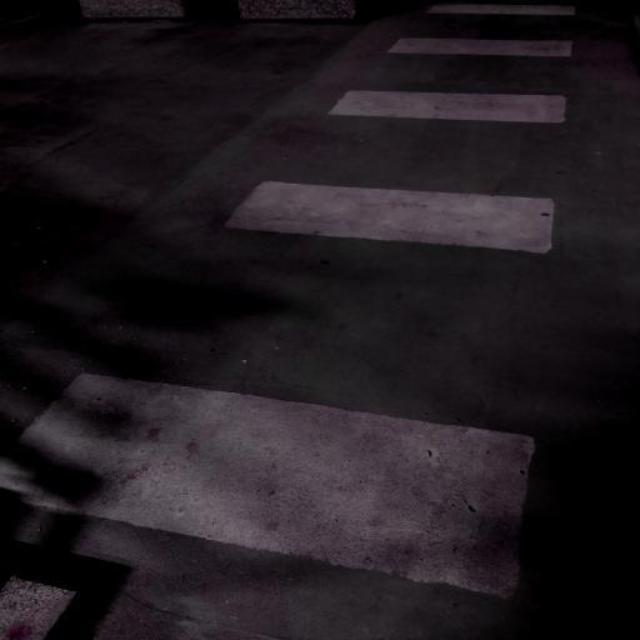sidewalk: (0, 0, 579, 609)
